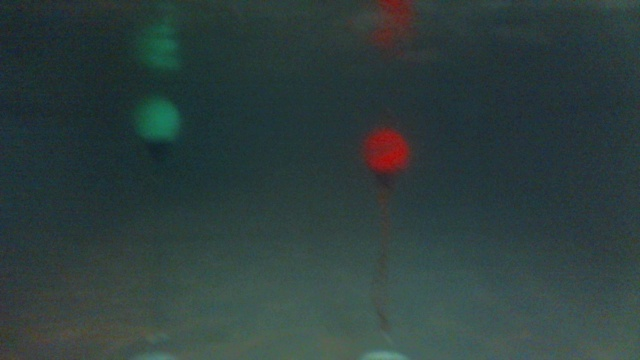buoy_green: (129, 92, 181, 164)
buoy_red: (363, 130, 408, 182)
